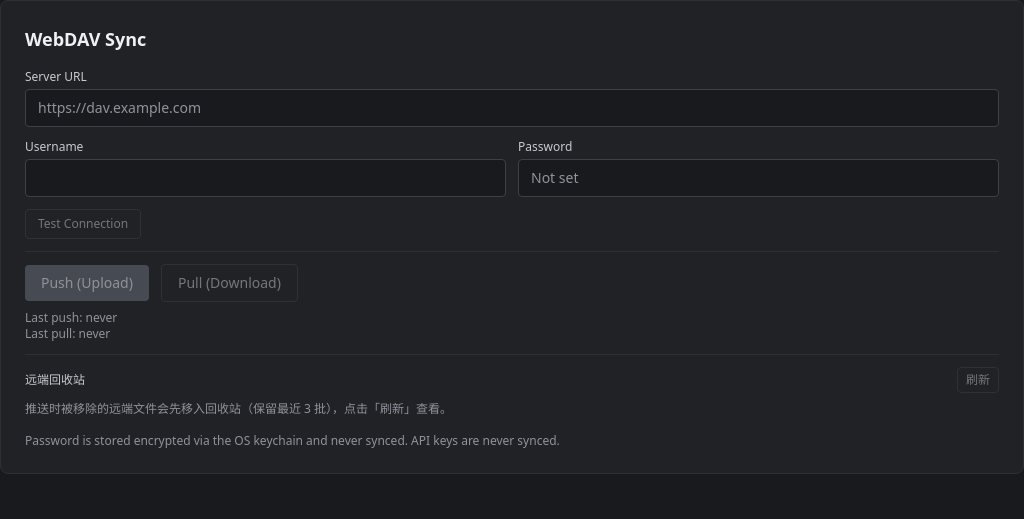
Scenario: WebDavSyncView — configuration › saves the URL/username and stores a new password on test
Type "https://dav.example/dav" into the field with placeholder "https://dav.example.com" at (512, 108), box [25, 89, 999, 127]
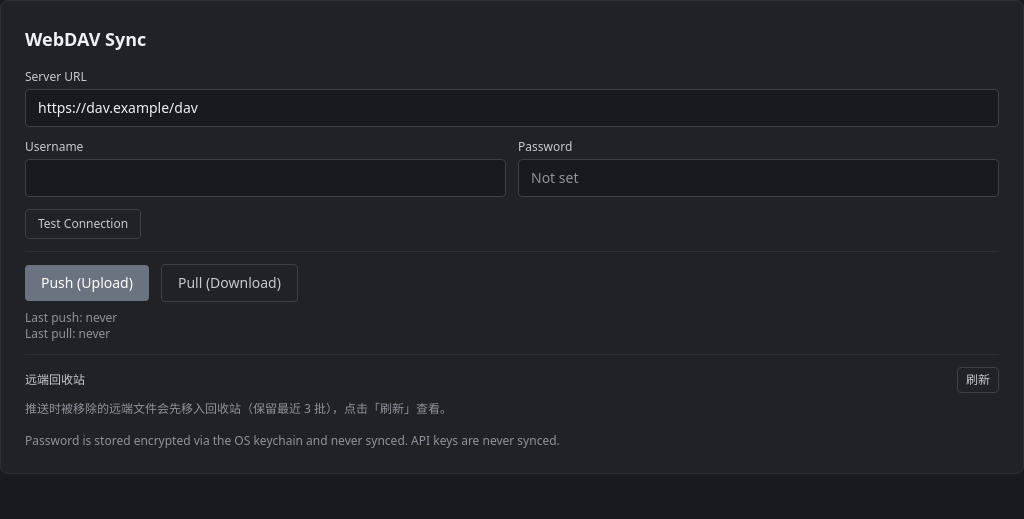
Type "alice" into the field below "Username" at (266, 178), box [25, 159, 506, 197]
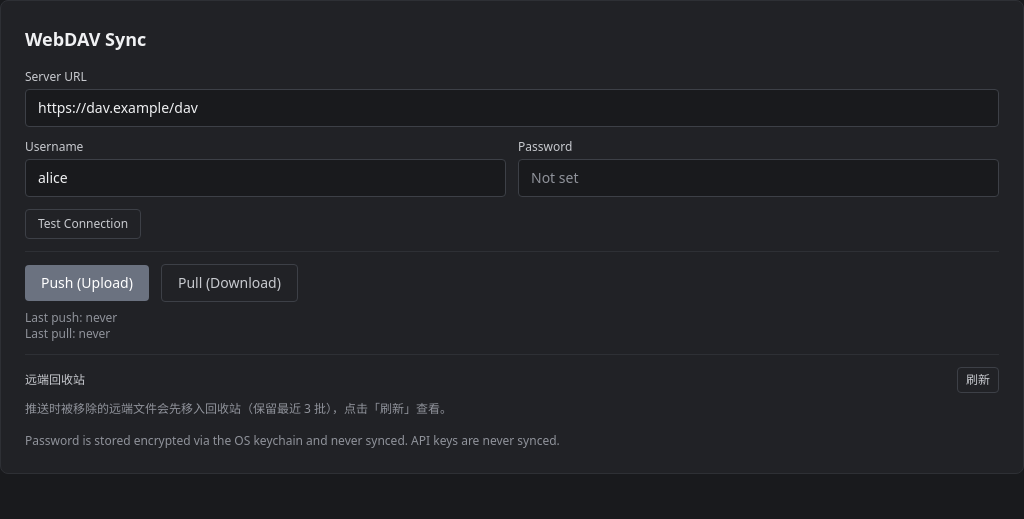
Type "pw" into the password field with placeholder "Not set" at (758, 178), box [518, 159, 999, 197]
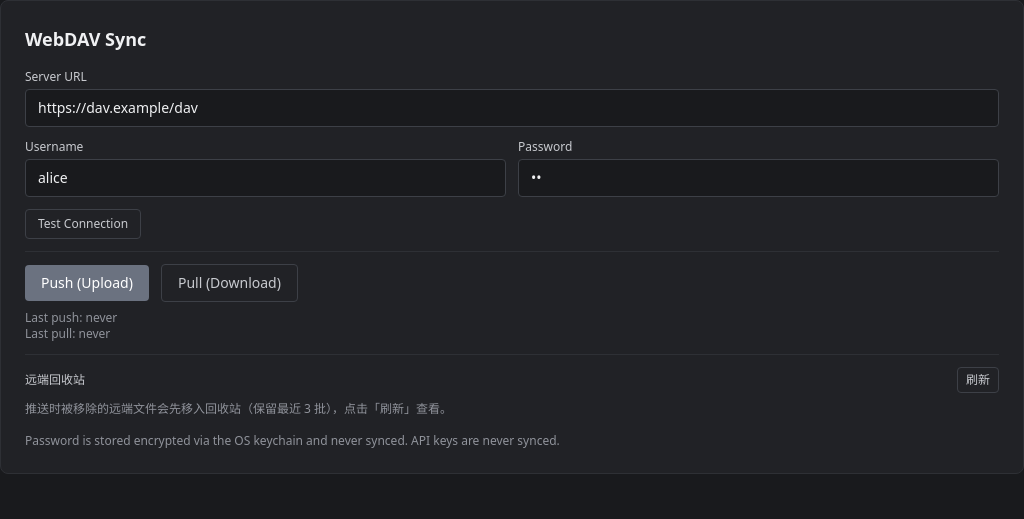
Click the button "Test Connection" at (83, 224), box [25, 209, 141, 239]
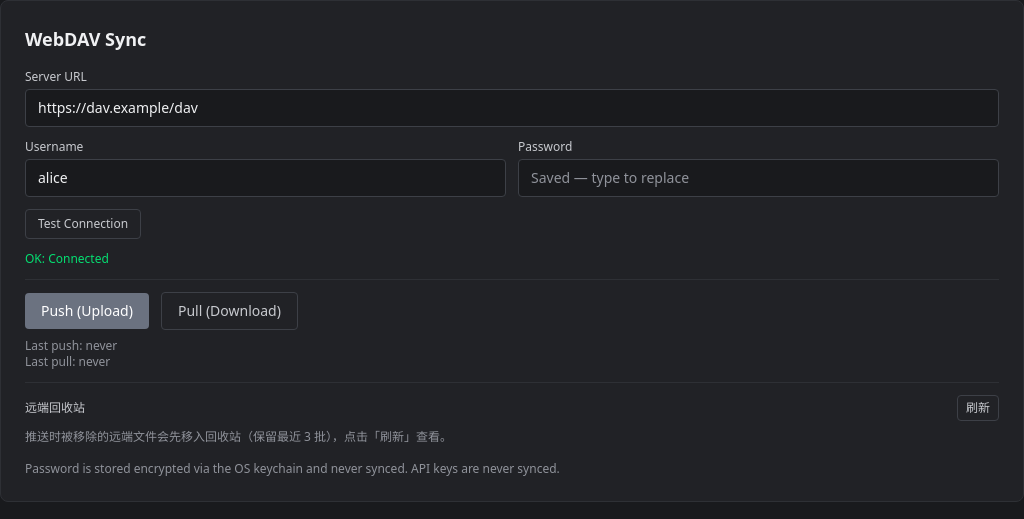
Check: the text "OK: Connected" is shown, box [25, 250, 109, 267]
